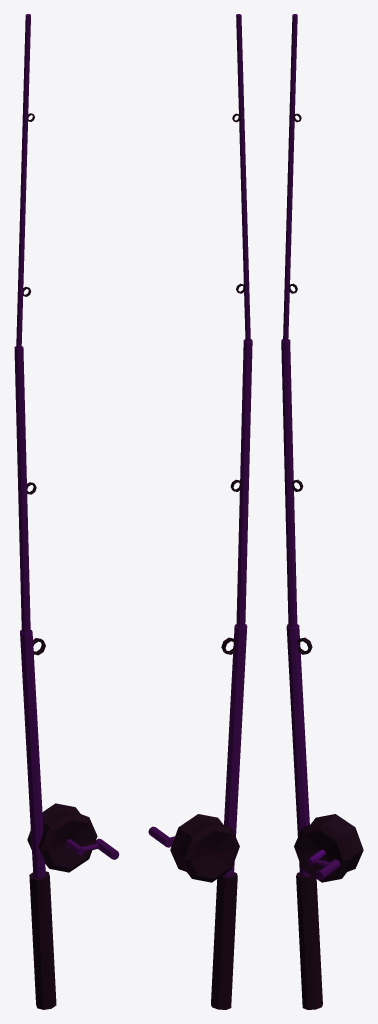
The model's file is FishingPole_01.fbx.
3 views of the same model, side by side, from view 1: azimuth 30°, elevation 25°; view 2: azimuth 210°, elevation 25°; view 3: azimuth 330°, elevation 25° (orthographic).
Parts seen in each view (by area): view 1: FishingPole_01; view 2: FishingPole_01; view 3: FishingPole_01.
Boxes of the visible parts, box(x1,y1,x2,y2) form: FishingPole_01: box(14, 14, 119, 1009); FishingPole_01: box(148, 14, 252, 1009); FishingPole_01: box(281, 14, 363, 1009).
Size of the model in its own units: 1.09 by 13.69 by 0.9977.
